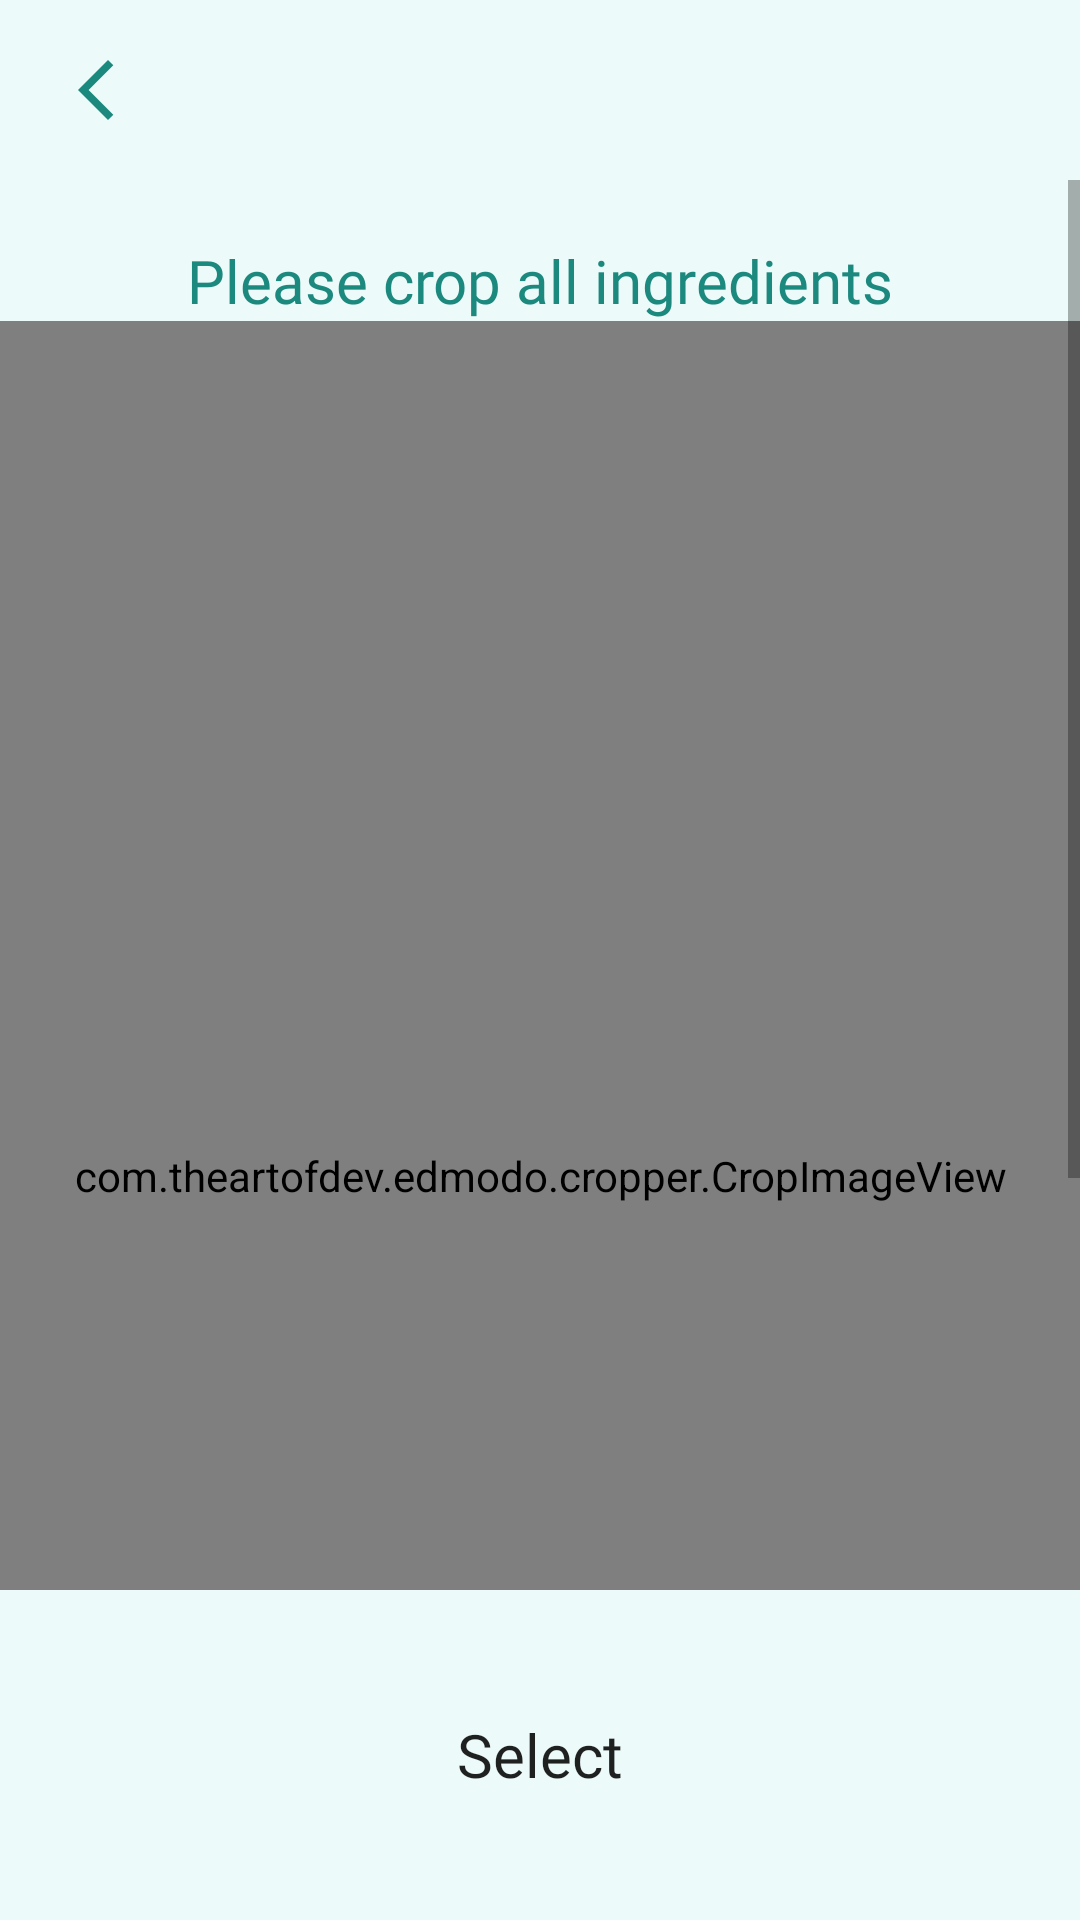

Where icons sit on this 1080 × 1920 app screen, as (x1, y1, x2, y2):
arrow: (78, 60, 113, 120)
